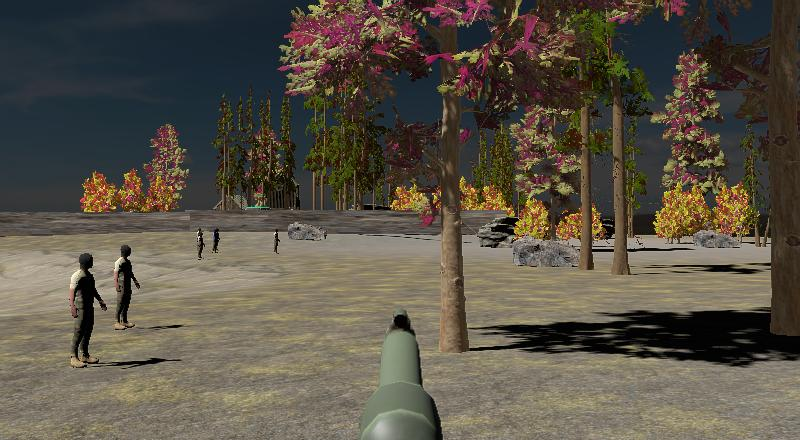Human: (67, 248, 109, 371), (111, 240, 144, 333), (194, 226, 207, 261), (271, 228, 283, 256)
